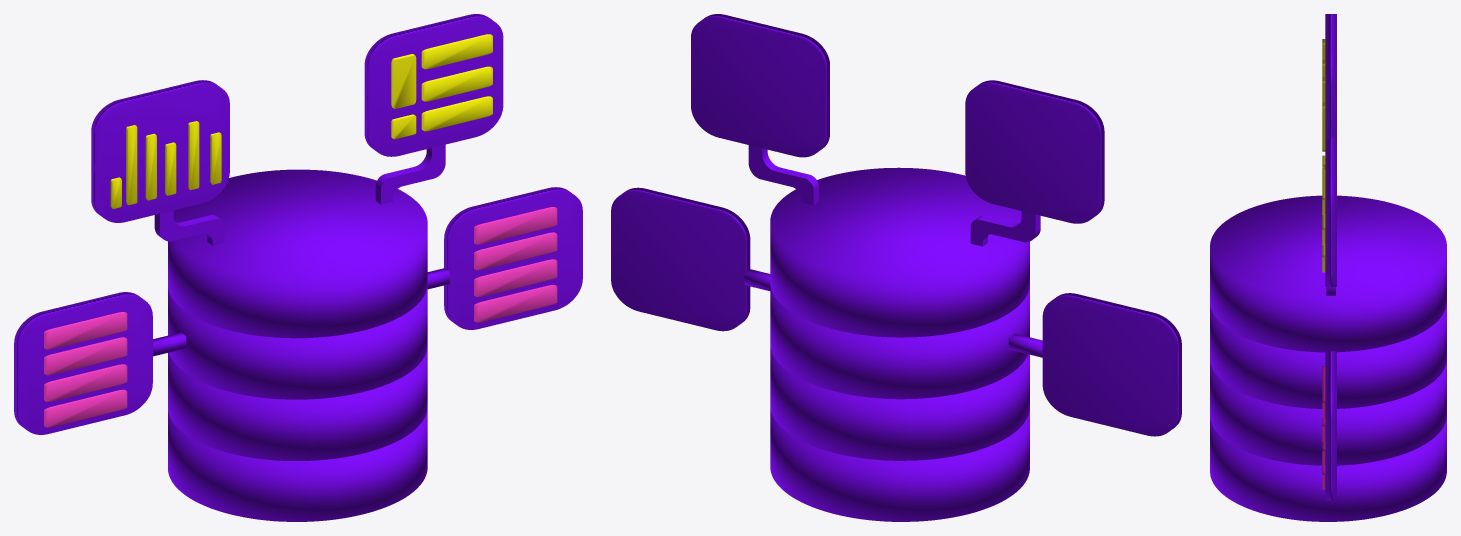
Rendered from AppropriateUseOfTheDBMSWeb-transformed.glb.
3 views of the same model, side by side, from view 1: azimuth 30°, elevation 25°; view 2: azimuth 150°, elevation 25°; view 3: azimuth 270°, elevation 25° (orthographic). The views are drawn at different scales.
Parts seen in each view (by area): view 1: Database, Database_Data_2, Database_Data_1, Database_Data_3, Database_Data_4, Cube.005, Cube.017, Cube.003, Connections, Cube.012; view 2: Database, Database_Data_2, Database_Data_3, Database_Data_1, Database_Data_4, Connections; view 3: Database, Database_Data_1, Database_Data_4, Database_Data_2, Cube.005, Cube.003, Cube.012.
Boxes of the visible parts, bbox=[...] form: Database: bbox=[168, 169, 427, 521]; Database_Data_2: bbox=[91, 80, 229, 222]; Database_Data_1: bbox=[364, 14, 503, 156]; Database_Data_3: bbox=[14, 292, 152, 434]; Database_Data_4: bbox=[444, 187, 582, 329]; Cube.005: bbox=[474, 207, 557, 322]; Cube.017: bbox=[44, 312, 127, 427]; Cube.003: bbox=[391, 34, 492, 139]; Connections: bbox=[153, 144, 449, 356]; Cube.012: bbox=[110, 121, 221, 208]; Database: bbox=[770, 167, 1029, 521]; Database_Data_2: bbox=[965, 80, 1104, 223]; Database_Data_3: bbox=[1042, 293, 1181, 436]; Database_Data_1: bbox=[691, 14, 829, 157]; Database_Data_4: bbox=[611, 187, 750, 331]; Connections: bbox=[744, 145, 1042, 357]; Database: bbox=[1210, 195, 1446, 521]; Database_Data_1: bbox=[1325, 137, 1336, 286]; Database_Data_4: bbox=[1325, 351, 1336, 500]; Database_Data_2: bbox=[1325, 14, 1336, 137]; Cube.005: bbox=[1322, 366, 1325, 489]; Cube.003: bbox=[1322, 155, 1325, 272]; Cube.012: bbox=[1322, 39, 1325, 151].
Size of the model in its own units: 9.99 by 6.91 by 3.95.
